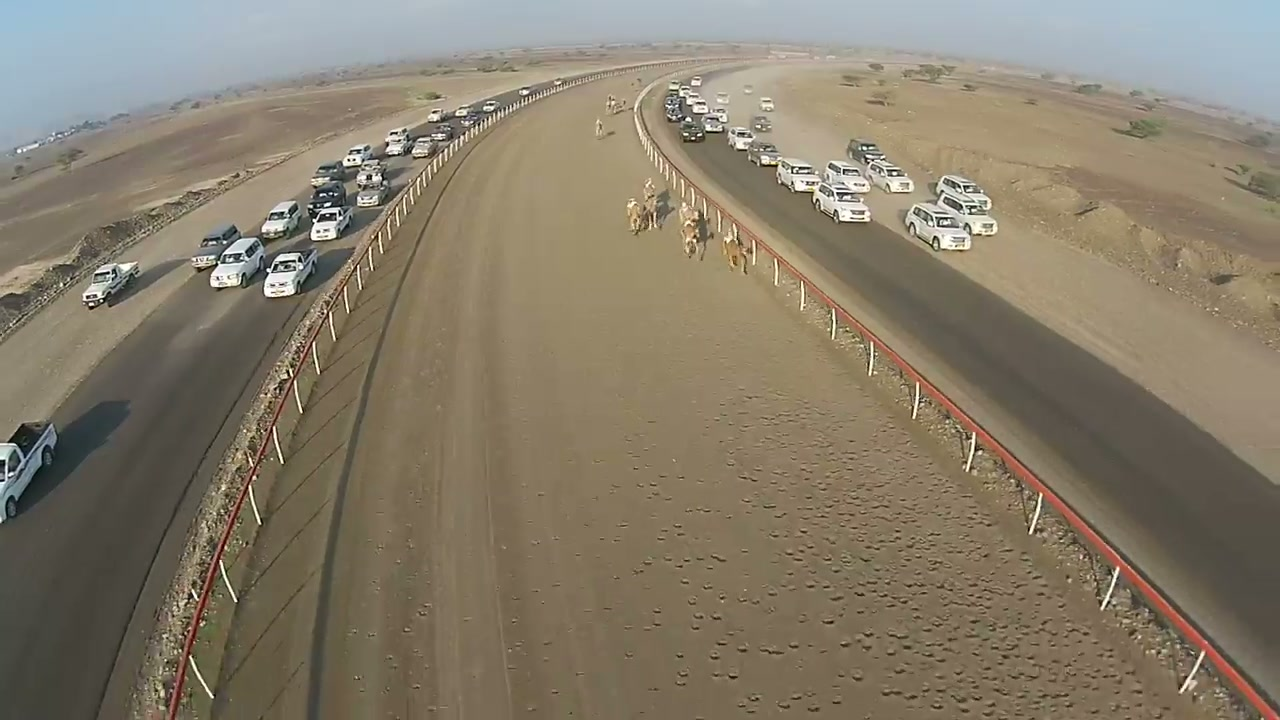animal_footprint: (655, 364, 1153, 718)
